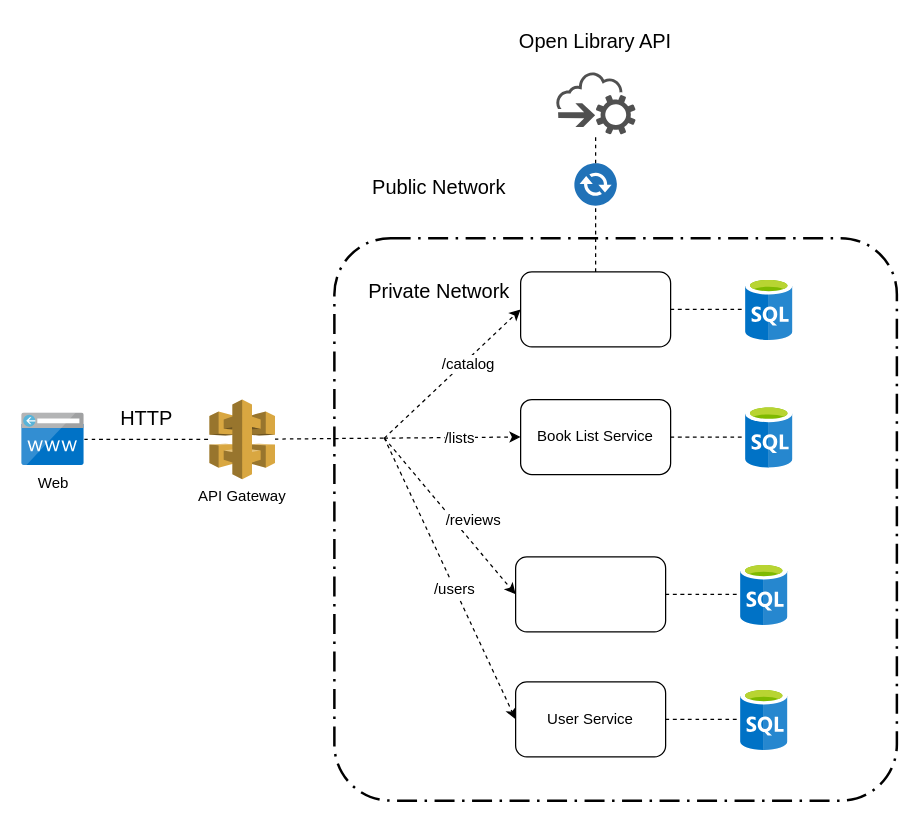
This 919x823 diagram has some shape labels left out. Here are the shapes that lost their labels. From the top down, the centre of each, then its label:
At (x=595, y=309): "Catalog Service".
At (x=590, y=594): "Review Service".
